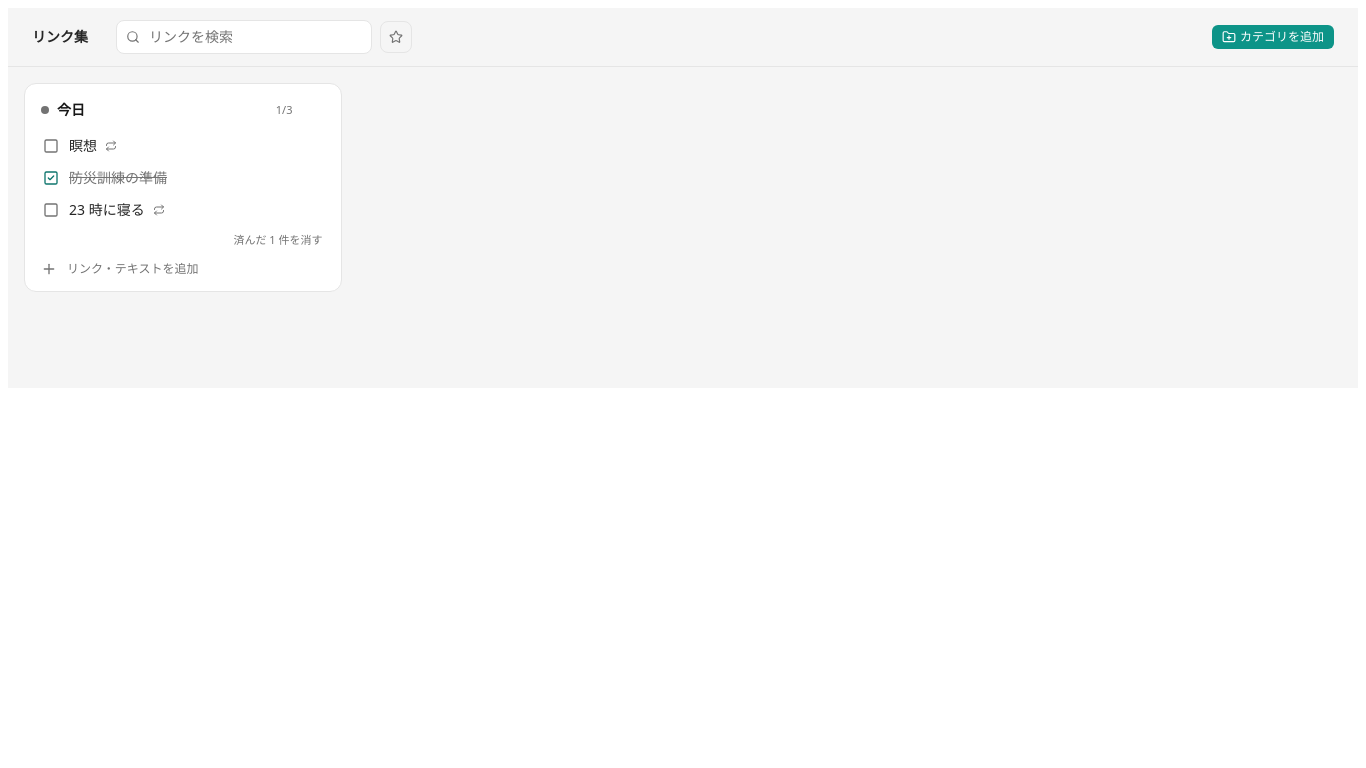
Test: <LinkShelf /> のチェック項目 › 済んだ項目をまとめて消せる（確認してから）
The width and height of the screenshot is (1366, 768).
Click the button "済んだ 1 件を消す" at (278, 240), box 228,230 -> 328,250
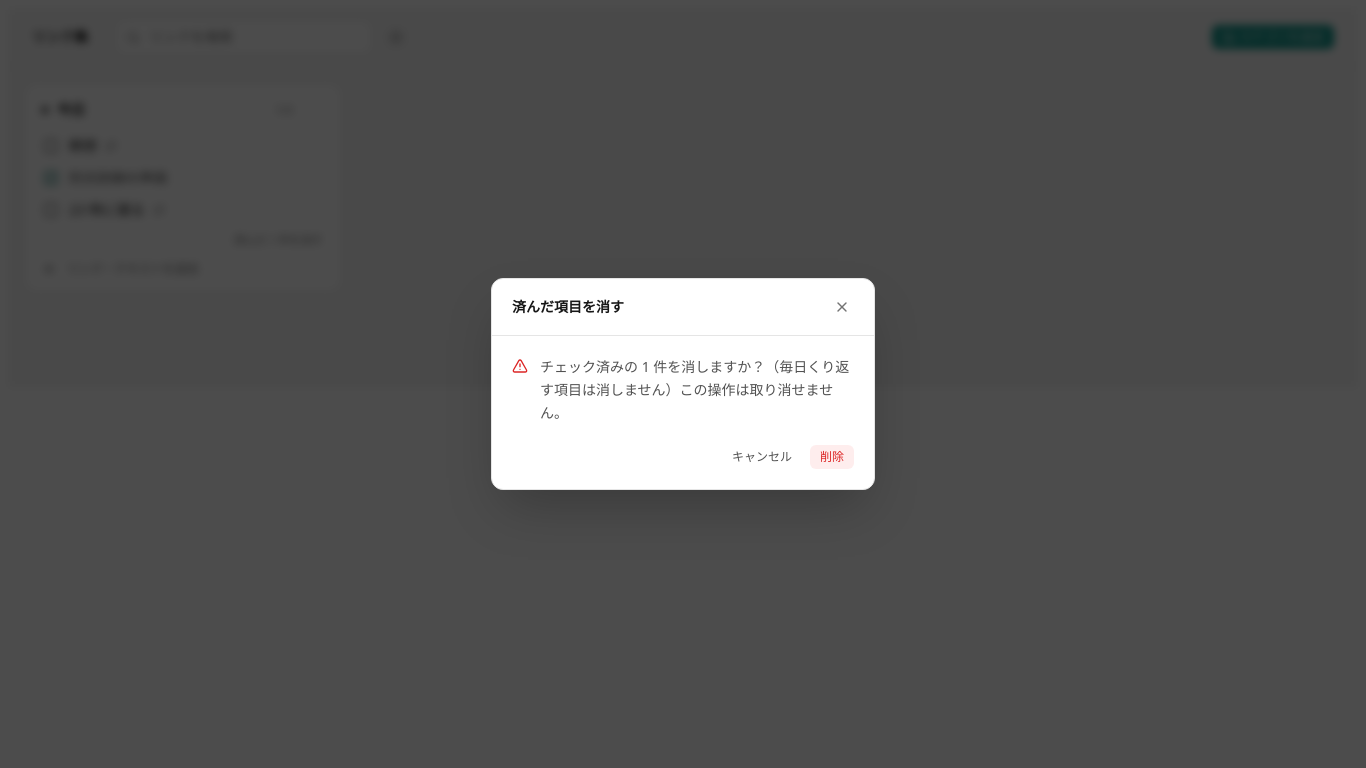
Click the button "削除" at (832, 457), box 810,445 -> 854,469
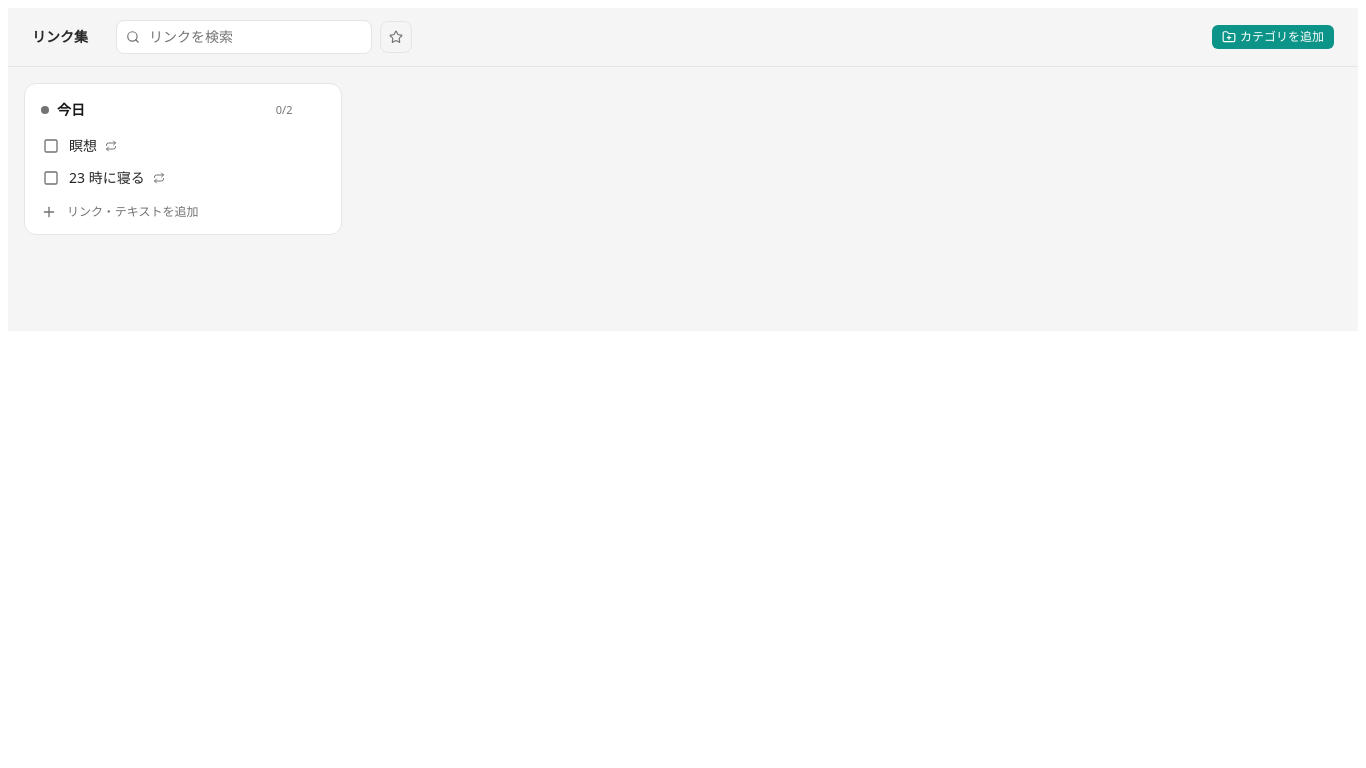
Expected: the button "防災訓練の準備" is gone
